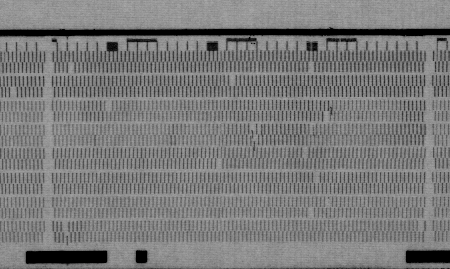Broken hole: (324, 195, 336, 209), (8, 85, 20, 99), (321, 110, 332, 125), (304, 205, 316, 218), (214, 157, 226, 170), (59, 221, 71, 234), (103, 100, 115, 112), (416, 219, 428, 231), (311, 172, 322, 185), (66, 61, 77, 74), (305, 62, 316, 74), (301, 147, 311, 159), (228, 74, 237, 87)
Oblique printing: (247, 122, 260, 151), (62, 232, 74, 246)
